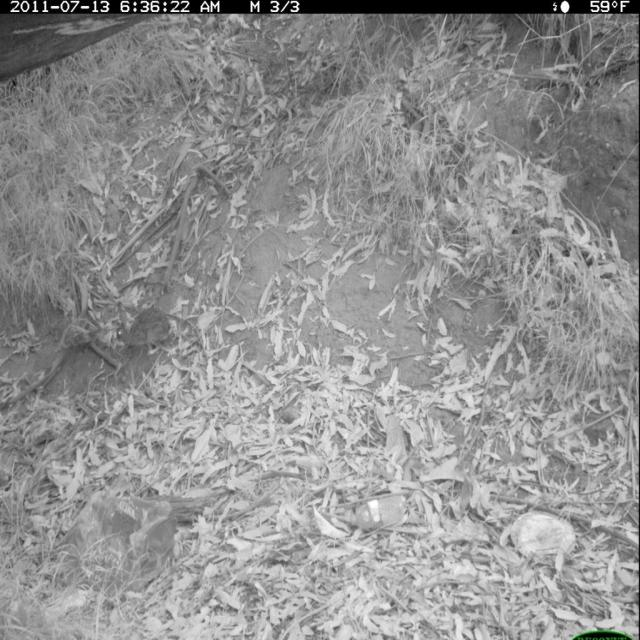rabbit: (112, 303, 188, 362)
